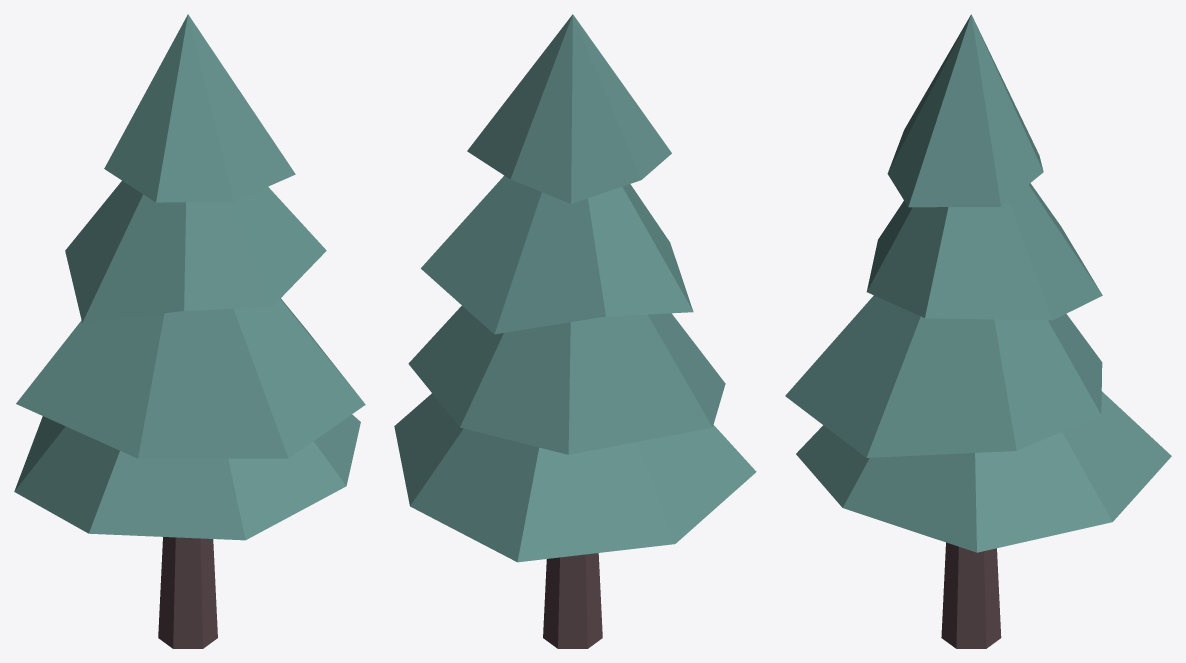
File: pine_01.glb
3 renders of one model, left to right at view 1: azimuth 30°, elevation 25°; view 2: azimuth 150°, elevation 25°; view 3: azimuth 270°, elevation 25°, orthographic.
Visible parts, largest first — view 1: pine_01; view 2: pine_01; view 3: pine_01.
Boxes of the visible parts, x1,y1,x2,y2 form: pine_01: [14, 14, 365, 648]; pine_01: [394, 14, 756, 648]; pine_01: [785, 14, 1171, 648].
Size of the model in its own units: 3.59 by 6.45 by 3.62.
